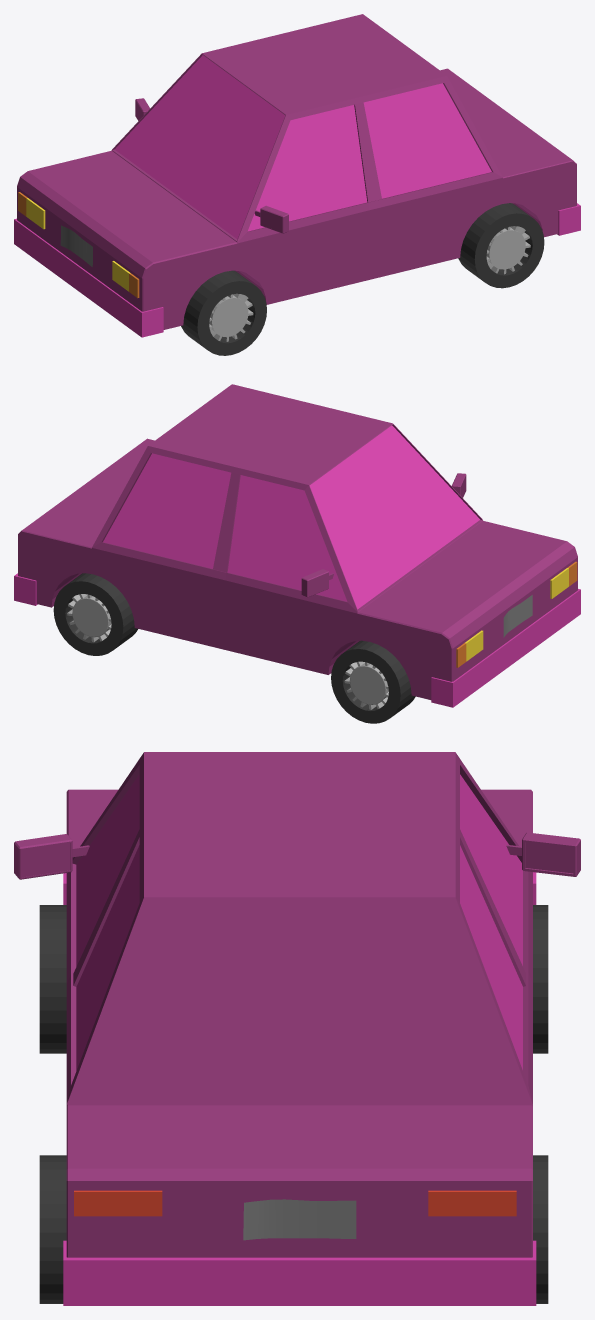
The model's file is Car One Purple.fbx.
The picture shows the model from 3 angles, top to bottom: view 1: azimuth 30°, elevation 25°; view 2: azimuth 150°, elevation 25°; view 3: azimuth 270°, elevation 25°; orthographic projection. The views are drawn at different scales.
Parts seen in each view (by area): view 1: Car Body.003, Bumper.004, Tire.015, Tire.014, Spoke.015, Spoke.014, License Plate Front.006, Mirror Left.007, Back Bumper.003, Front Light.006, Light Front.006; view 2: Car Body.003, Bumper.004, Tire.013, Tire.012, Spoke.012, Spoke.013, Mirror Right.007, License Plate Front.006, Back Bumper.003, Front Light.006, Light Front.006; view 3: Car Body.003, Back Bumper.003, Plane.005, Tire.014, Tire.015, Mirror Left.007, Mirror Right.007, Back Light.011, Back Light.012, Tire.012, Tire.013.
Boxes of the visible parts, box(x1,y1,x2,y2) form: Car Body.003: box(17, 14, 576, 329); Bumper.004: box(14, 218, 163, 337); Tire.015: box(458, 203, 544, 288); Tire.014: box(181, 270, 266, 355); Spoke.015: box(486, 226, 530, 274); Spoke.014: box(209, 293, 253, 341); License Plate Front.006: box(60, 225, 92, 266); Mirror Left.007: box(254, 205, 288, 233); Back Bumper.003: box(557, 203, 580, 235); Front Light.006: box(112, 261, 139, 298); Light Front.006: box(18, 192, 45, 229); Car Body.003: box(18, 384, 577, 699); Bumper.004: box(431, 589, 580, 707); Tire.013: box(53, 573, 137, 655); Tire.012: box(331, 640, 415, 723); Spoke.012: box(344, 661, 388, 709); Spoke.013: box(67, 594, 111, 642); Mirror Right.007: box(301, 569, 333, 597); License Plate Front.006: box(503, 595, 532, 637); Back Bumper.003: box(14, 573, 37, 605); Front Light.006: box(550, 561, 577, 598); Light Front.006: box(456, 630, 483, 667); Car Body.003: box(66, 752, 532, 1257); Back Bumper.003: box(63, 1240, 536, 1305); Plane.005: box(243, 1199, 356, 1240); Tire.014: box(39, 905, 66, 1053); Tire.015: box(39, 1155, 66, 1303); Mirror Left.007: box(14, 834, 89, 879); Mirror Right.007: box(506, 832, 580, 876); Back Light.011: box(428, 1190, 516, 1216); Back Light.012: box(74, 1190, 162, 1216); Tire.012: box(533, 905, 548, 1053); Tire.013: box(533, 1155, 548, 1303).
Size of the model in its own units: 357 by 154 by 215.
